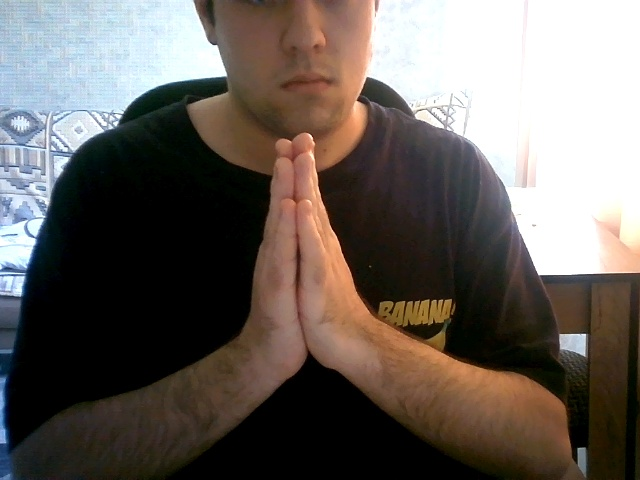please: (210, 111, 410, 409)
